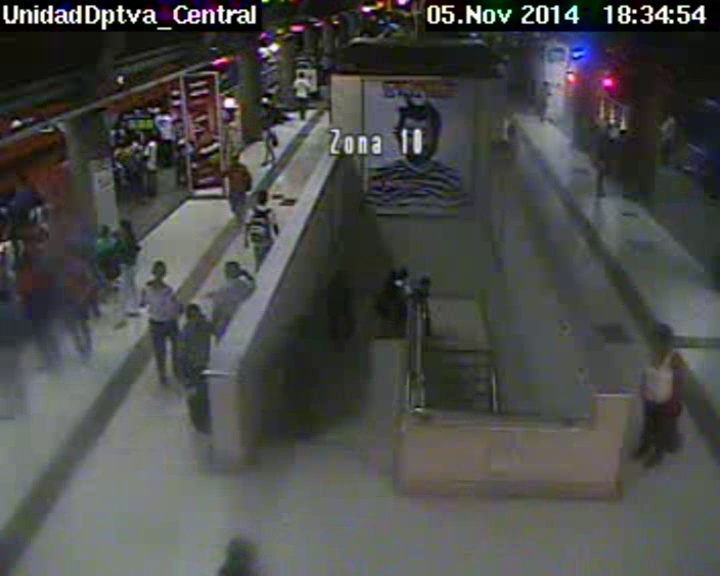person: (226, 537, 256, 566), (650, 324, 674, 351), (150, 261, 168, 281), (221, 260, 239, 278), (184, 303, 202, 321), (24, 251, 40, 270), (63, 242, 79, 260), (254, 189, 270, 206), (118, 220, 133, 236), (6, 226, 22, 241), (18, 172, 31, 188), (95, 224, 110, 237), (418, 275, 432, 288), (396, 267, 408, 280), (230, 154, 241, 166), (35, 193, 47, 204), (158, 104, 170, 114), (260, 103, 271, 112), (116, 139, 125, 149), (599, 125, 608, 135), (130, 137, 141, 145), (666, 109, 675, 118), (271, 81, 280, 89), (148, 134, 155, 144), (541, 81, 549, 88), (299, 72, 305, 78)
